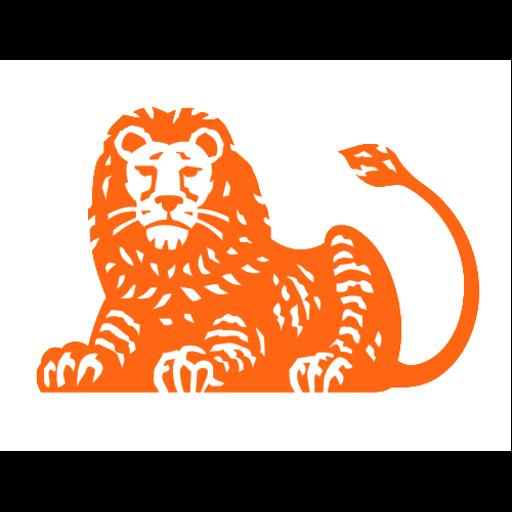ING: (0, 60, 511, 451)
